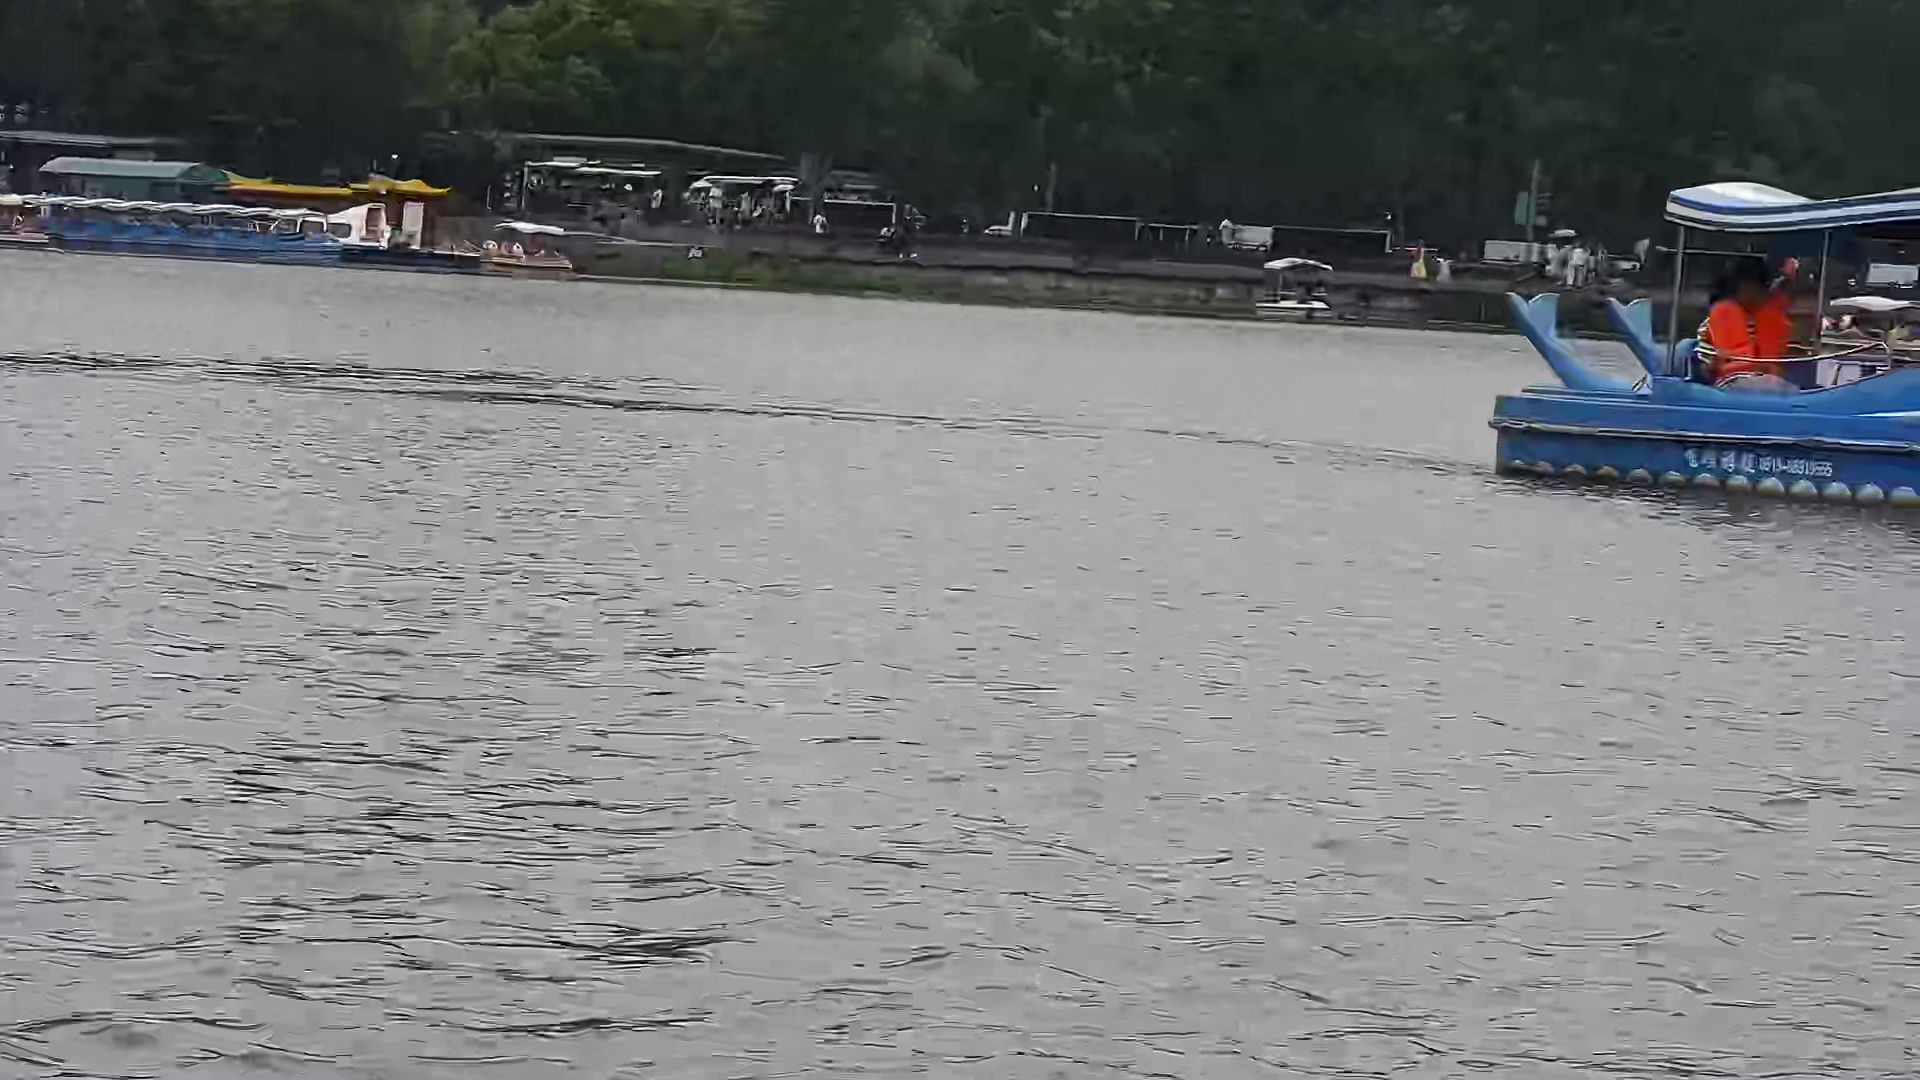boat: (1466, 162, 1920, 527), (44, 211, 483, 280), (467, 214, 587, 287), (1247, 245, 1350, 328)
